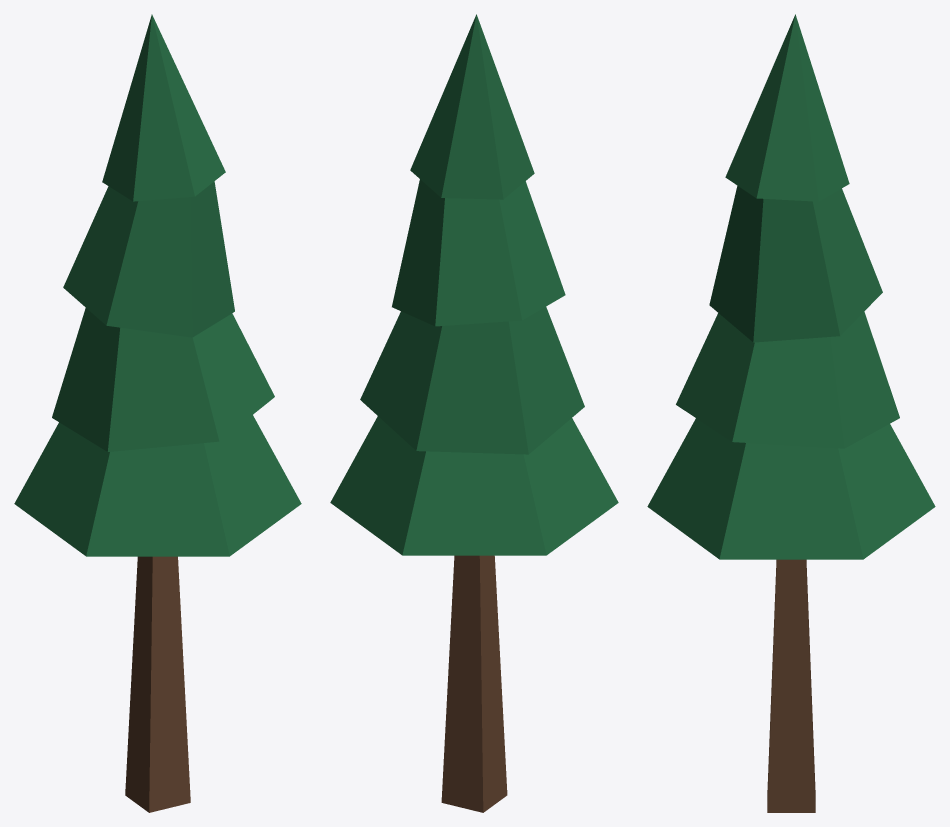
Rendered from nk_pinetall_c.glb.
3 renders of one model, left to right at view 1: azimuth 30°, elevation 25°; view 2: azimuth 150°, elevation 25°; view 3: azimuth 270°, elevation 25°, orthographic.
Visible parts, largest first — view 1: tree_pineTallC; view 2: tree_pineTallC; view 3: tree_pineTallC.
Boxes of the visible parts, left/top/right/bottom form: tree_pineTallC: left=14, top=14, right=301, bottom=812; tree_pineTallC: left=330, top=14, right=618, bottom=812; tree_pineTallC: left=647, top=14, right=935, bottom=812.
Size of the model in its own units: 2.44 by 8.5 by 2.82.
